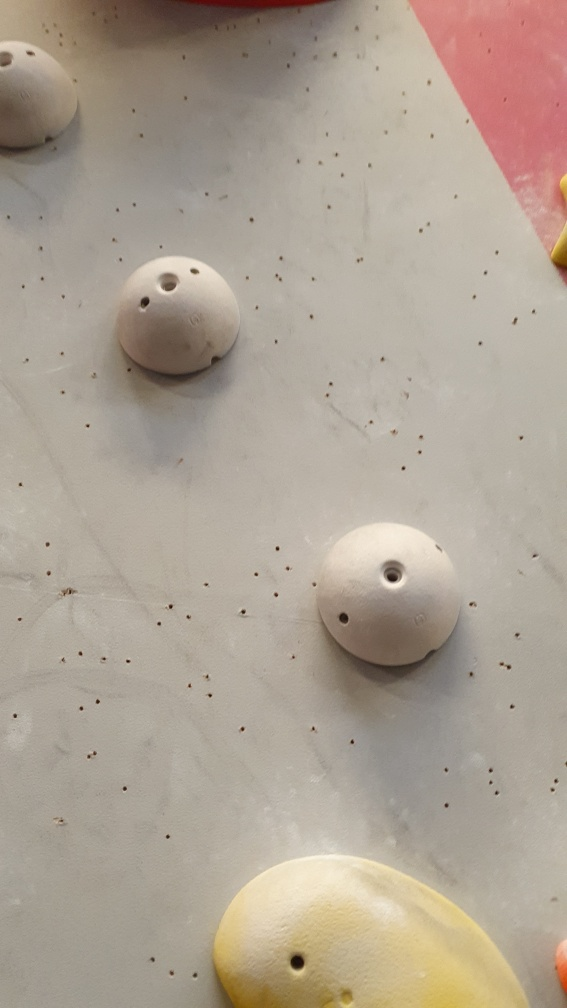Sloper: (318, 519, 468, 677), (115, 254, 246, 375), (1, 38, 82, 152)
